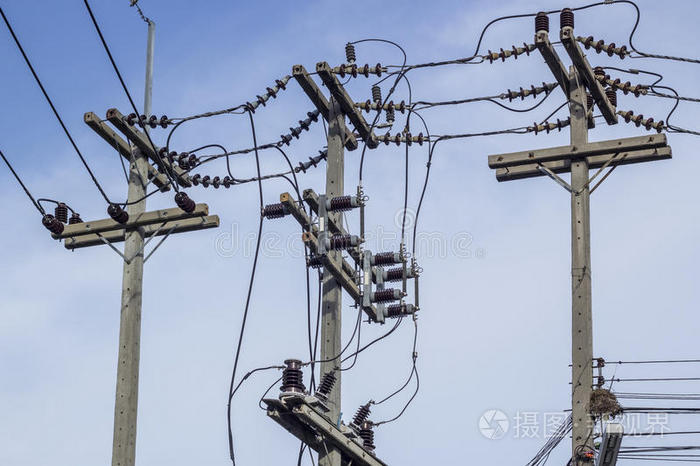insulator: (246, 77, 285, 109), (282, 110, 318, 144), (505, 78, 552, 101), (620, 110, 665, 132), (583, 36, 626, 58), (598, 76, 643, 96), (487, 43, 533, 62), (379, 130, 425, 148), (295, 148, 328, 173), (338, 61, 382, 78), (157, 147, 198, 164), (126, 113, 169, 129), (531, 117, 565, 135), (191, 174, 233, 188), (360, 99, 408, 111)
